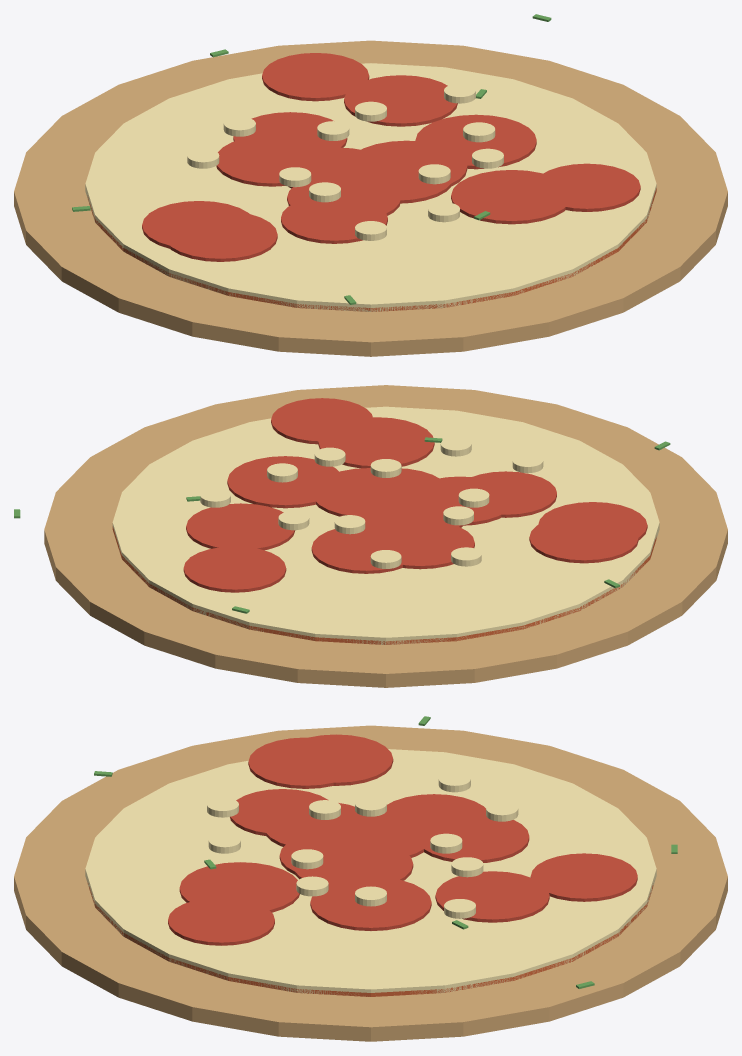
Rendered from pizza_hero.glb.
The picture shows the model from 3 angles, top to bottom: view 1: azimuth 30°, elevation 25°; view 2: azimuth 150°, elevation 25°; view 3: azimuth 270°, elevation 25°; orthographic projection. The views are drawn at different scales.
Parts seen in each view (by area): view 1: CrustRim, CheeseLayer, Pepperoni09, Pepperoni10, Pepperoni07, Pepperoni12, Pepperoni00, Pepperoni02, Pepperoni08, Pepperoni01, Pepperoni11, Pepperoni13 (+17 smaller); view 2: CrustRim, CheeseLayer, Pepperoni08, Pepperoni09, Pepperoni00, Pepperoni12, Pepperoni07, Pepperoni04, Pepperoni01, Pepperoni02, Pepperoni11, SauceLayer (+17 smaller); view 3: CrustRim, CheeseLayer, Pepperoni09, Pepperoni00, Pepperoni10, Pepperoni08, Pepperoni12, Pepperoni07, Pepperoni06, Pepperoni01, Pepperoni11, Pepperoni03 (+17 smaller).
Boxes of the visible parts, x1,y1,x2,y2 form: CrustRim: (14,40,727,356); CheeseLayer: (85,63,656,311); Pepperoni09: (451,170,572,224); Pepperoni10: (163,212,277,261); Pepperoni07: (262,53,369,101); Pepperoni12: (344,75,457,126); Pepperoni00: (415,114,536,169); Pepperoni02: (281,196,387,243); Pepperoni08: (142,201,255,248); Pepperoni01: (233,112,347,160); Pepperoni11: (534,163,640,211); Pepperoni13: (281,147,394,195); CrustRim: (44,385,727,687); CheeseLayer: (112,406,659,644); Pepperoni08: (529,514,638,563); Pepperoni09: (318,417,434,468); Pepperoni00: (227,456,343,508); Pepperoni12: (186,503,295,550); Pepperoni07: (183,546,286,592); Pepperoni04: (314,468,427,516); Pepperoni01: (311,525,420,573); Pepperoni02: (454,471,556,517); Pepperoni11: (271,398,372,444); SauceLayer: (112,526,656,644); CrustRim: (14,725,727,1041); CheeseLayer: (85,749,656,996); Pepperoni09: (179,862,299,913); Pepperoni00: (310,876,431,930); Pepperoni10: (248,737,362,788); Pepperoni08: (279,734,393,785); Pepperoni12: (435,871,549,922); Pepperoni07: (530,853,637,901); Pepperoni06: (377,794,490,841); Pepperoni01: (419,812,529,862); Pepperoni11: (168,902,274,945); Pepperoni03: (264,802,377,849).
Bounding box in the file's own units: 2 × 0.1796 × 2.
